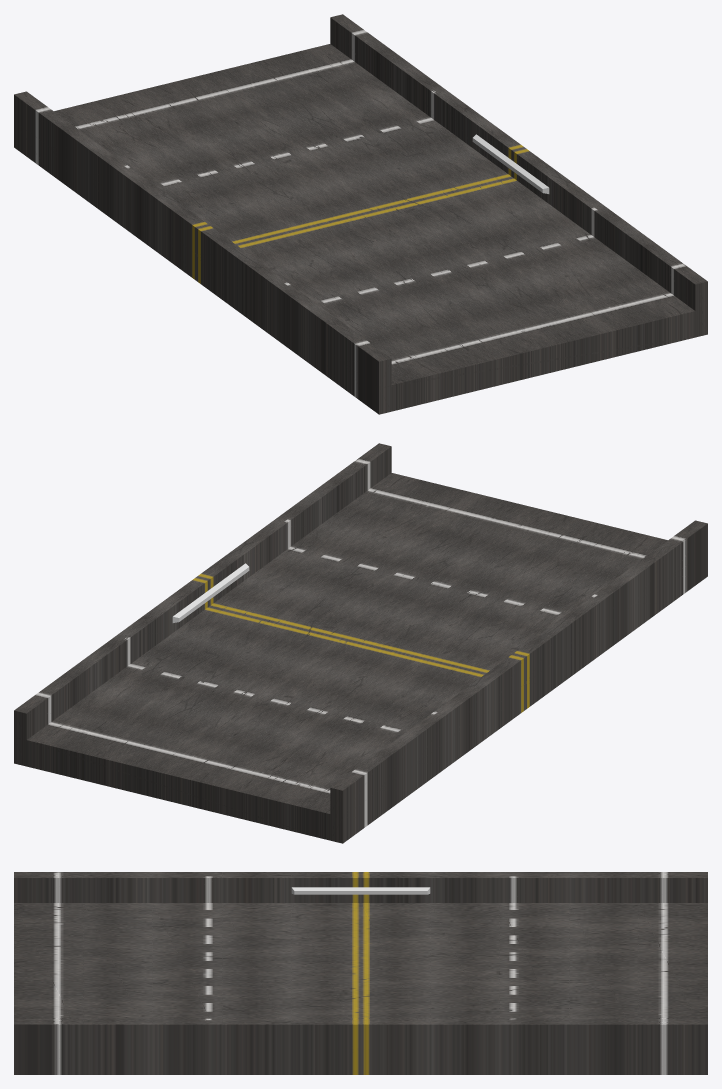
The model's file is hwtrackbase.fbx.
The picture shows the model from 3 angles, top to bottom: view 1: azimuth 30°, elevation 25°; view 2: azimuth 150°, elevation 25°; view 3: azimuth 270°, elevation 25°; orthographic projection. The views are drawn at different scales.
Parts seen in each view (by area): view 1: TrackBaseLOD0; view 2: TrackBaseLOD0; view 3: TrackBaseLOD0.
Boxes of the visible parts, x1,y1,x2,y2 form: TrackBaseLOD0: (14, 14, 707, 414); TrackBaseLOD0: (14, 443, 707, 843); TrackBaseLOD0: (14, 872, 707, 1074).
Size of what is drawn, in the model's own units: 260 by 40 by 500.
